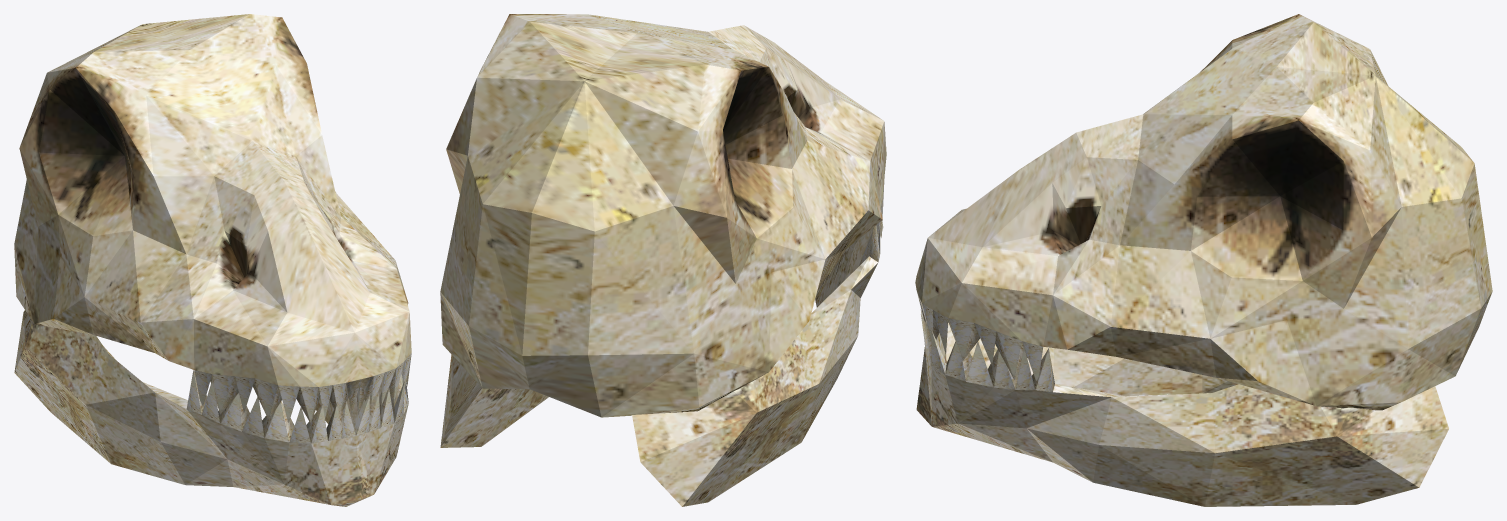
Rendered from poi_tato_skel_grtr_krayt_head_s01_l1.fbx.
3 views of the same model, side by side, from view 1: azimuth 30°, elevation 25°; view 2: azimuth 150°, elevation 25°; view 3: azimuth 270°, elevation 25° (orthographic). The views are drawn at different scales.
Parts seen in each view (by area): view 1: mesh_node; view 2: mesh_node; view 3: mesh_node.
Part boxes in pixels (box(x1,y1,x2,y2)): mesh_node: box(14, 14, 411, 506); mesh_node: box(440, 14, 886, 506); mesh_node: box(915, 14, 1492, 506).
Bounding box in the file's own units: 1.33 × 1.63 × 2.18.
